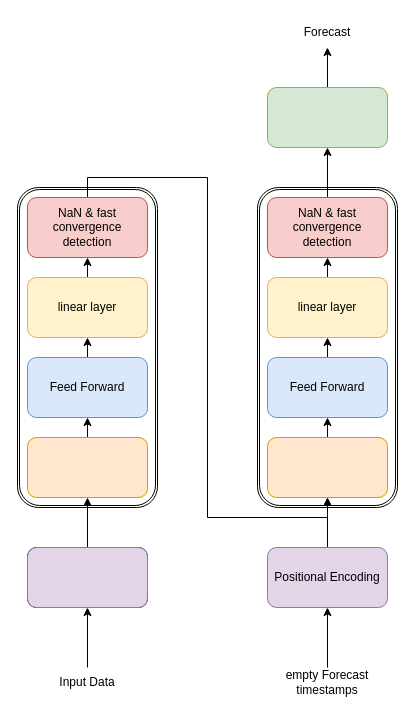
This 415x714 diagram has some shape labels left out. Here are the shapes that lost their labels. From the top down, the box of each, then its label:
(266, 86, 388, 148): Softmax
(26, 436, 148, 498): Probabilistic Sparse Attention
(266, 436, 388, 498): Learned Sparse Attention
(26, 546, 148, 608): Embeddings & Positional Encoding
